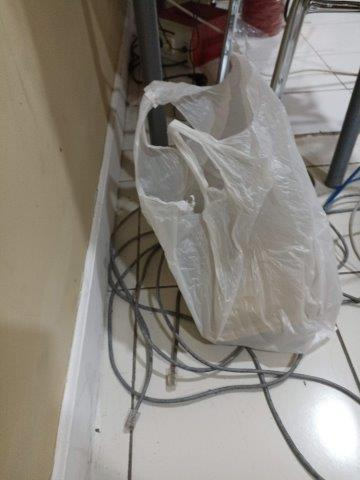plastik: (133, 52, 340, 352)
